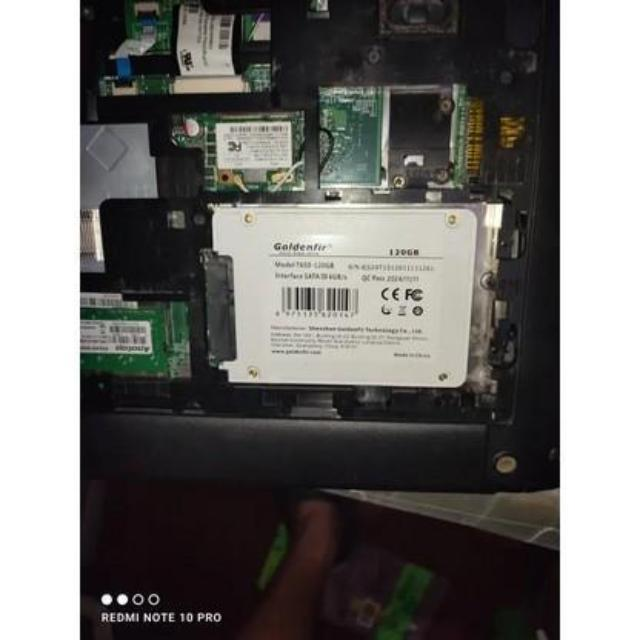DISK: (198, 194, 474, 396)
